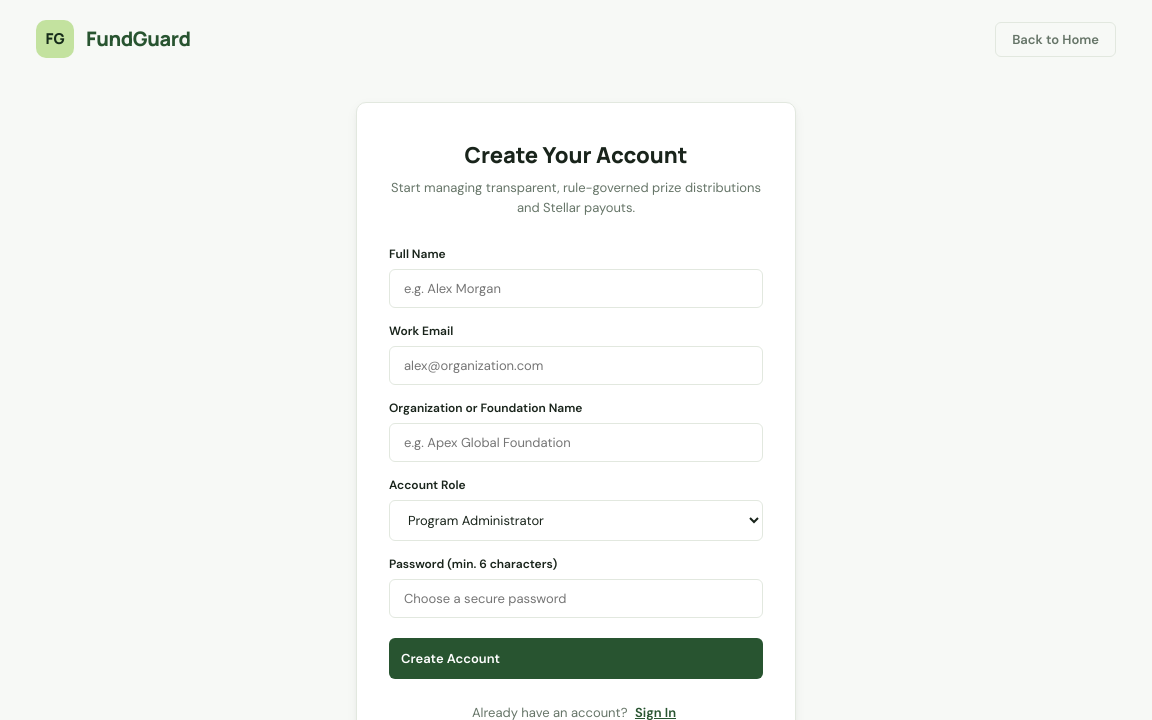
Test case: Account Creation & Workspace Isolation Flow › completes signup and isolates user dashboard with correct disbursement and remaining balance
This screenshot has width=1152, height=720.
Note: Fill registration form
Type "Bob Alpha" into the field with placeholder "e.g. Alex Morgan" at (576, 288), box 389,269 -> 763,308
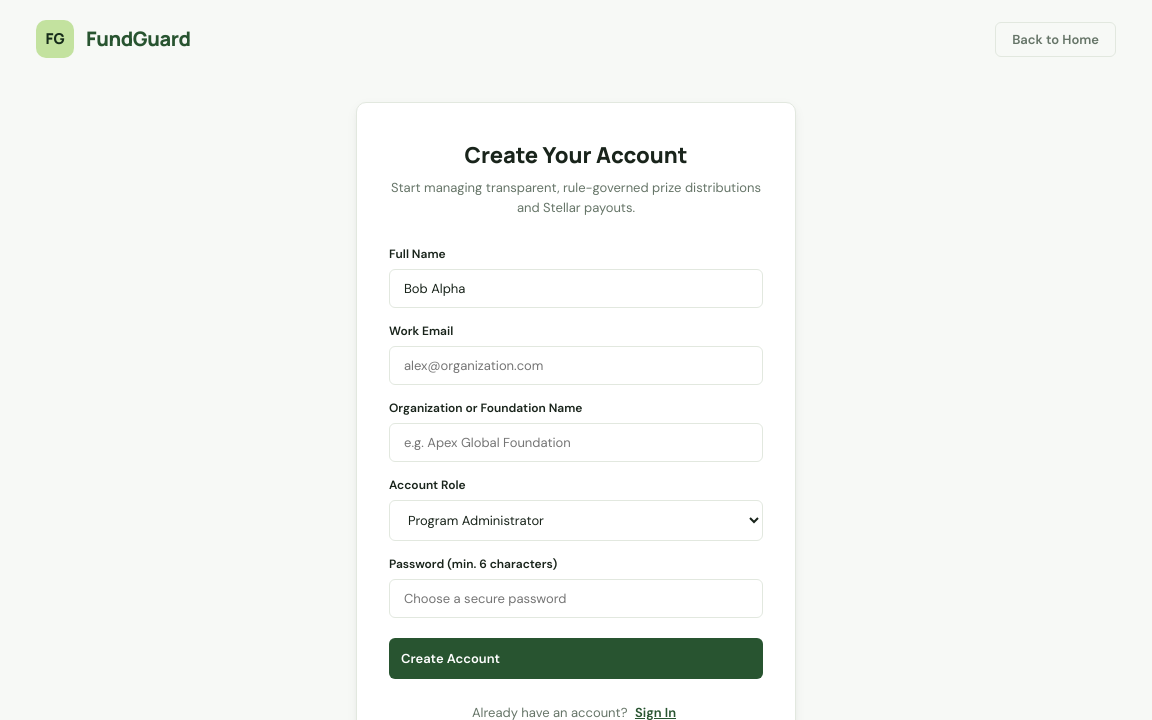
Type "bob@alphaventures.com" into the field with placeholder "alex@organization.com" at (576, 366), box 389,346 -> 763,385
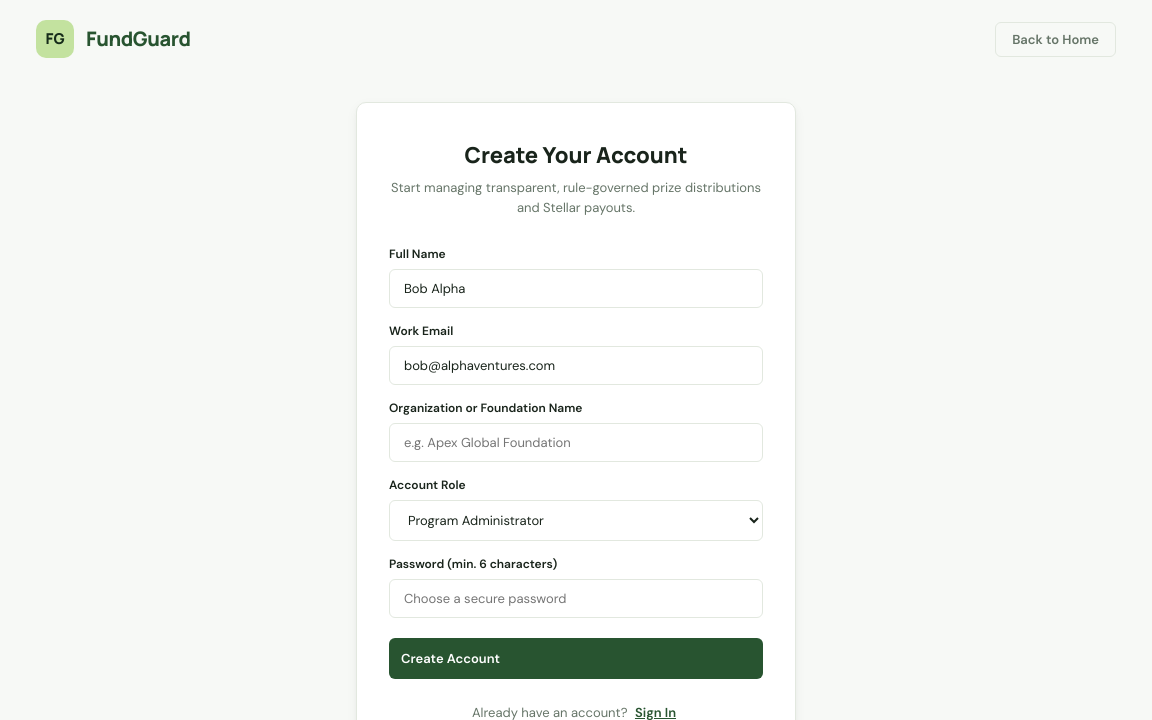
Type "Alpha Ventures" into the field with placeholder "e.g. Apex Global Foundation" at (576, 442), box 389,423 -> 763,462
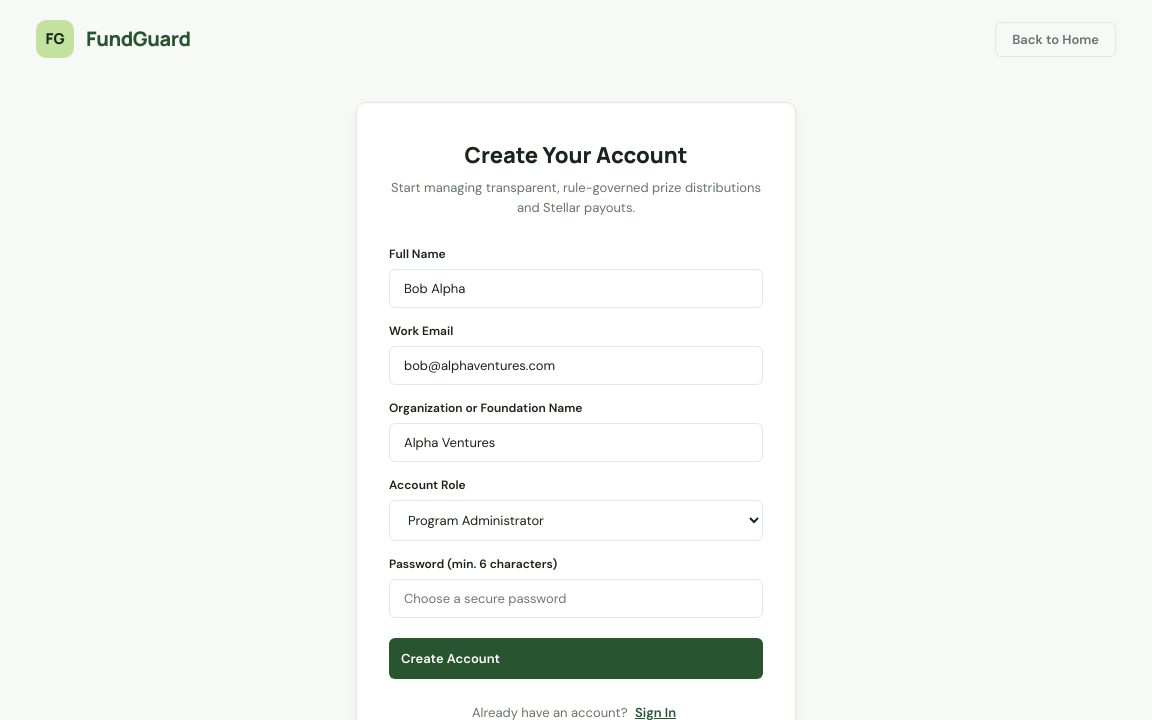
Type "alphaPass123" into the password field with placeholder "Choose a secure password" at (576, 598), box 389,579 -> 763,618
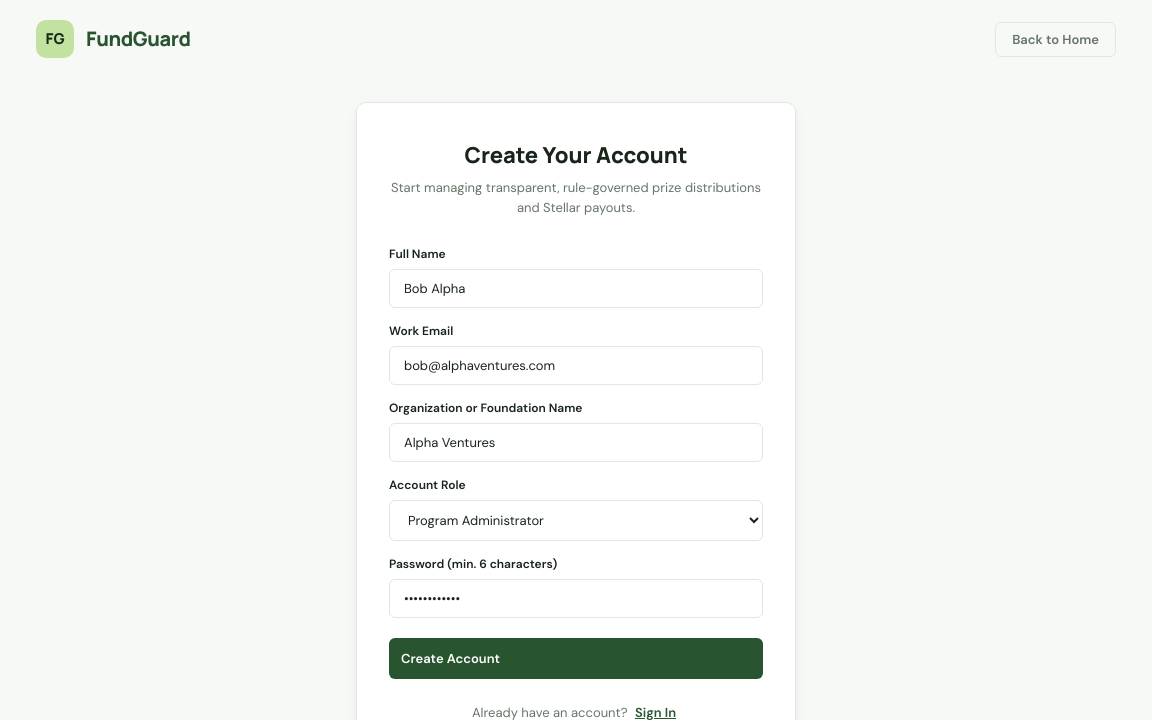
Note: Submit form
Click the button "Create Account" at (451, 658), box 389,638 -> 763,679
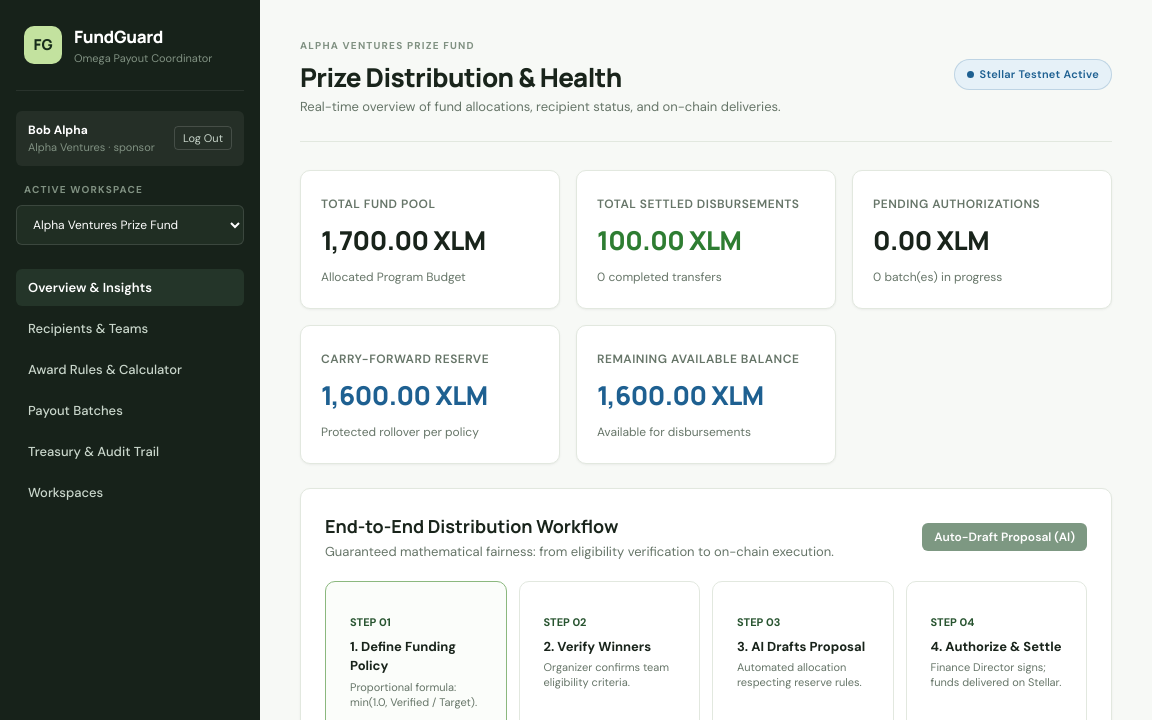
Expected: the text "Bob Alpha" is shown, 28,122 -> 88,138
Expected: the text "Alpha Ventures · sponsor" is shown, 28,139 -> 155,156
Expected: the text "Total Settled Disbursements" is shown, 597,196 -> 799,212
